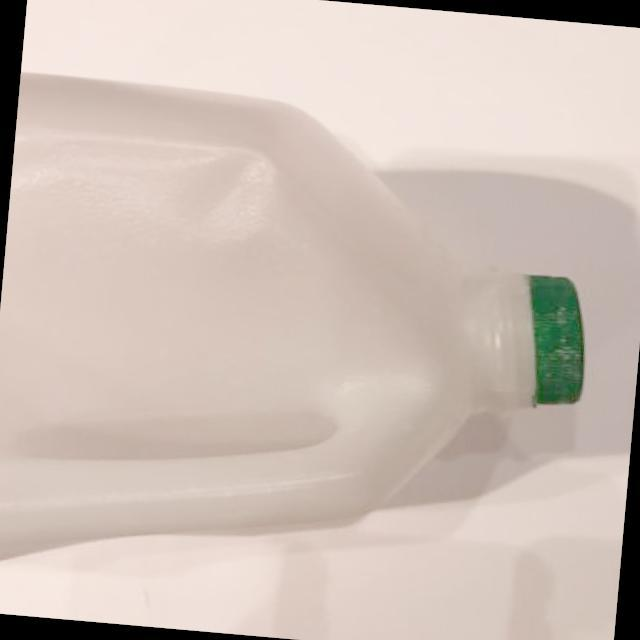HDPE Plastic: (2, 68, 592, 565)
